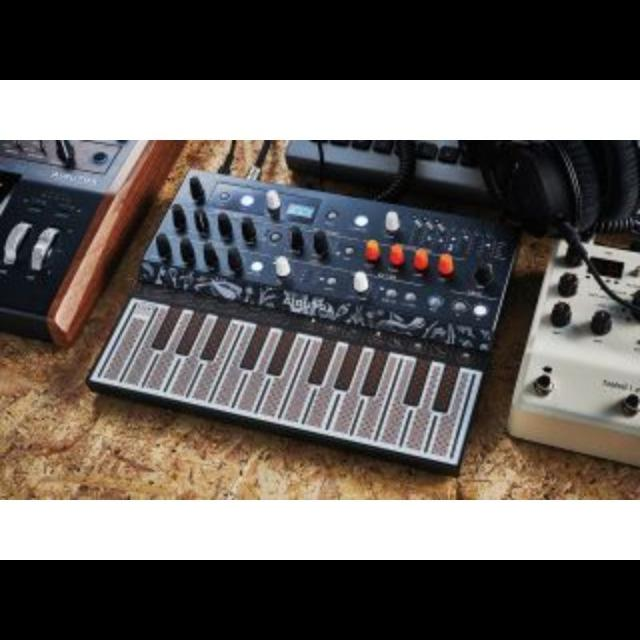Electronic-Keyboard: (115, 170, 499, 462)
